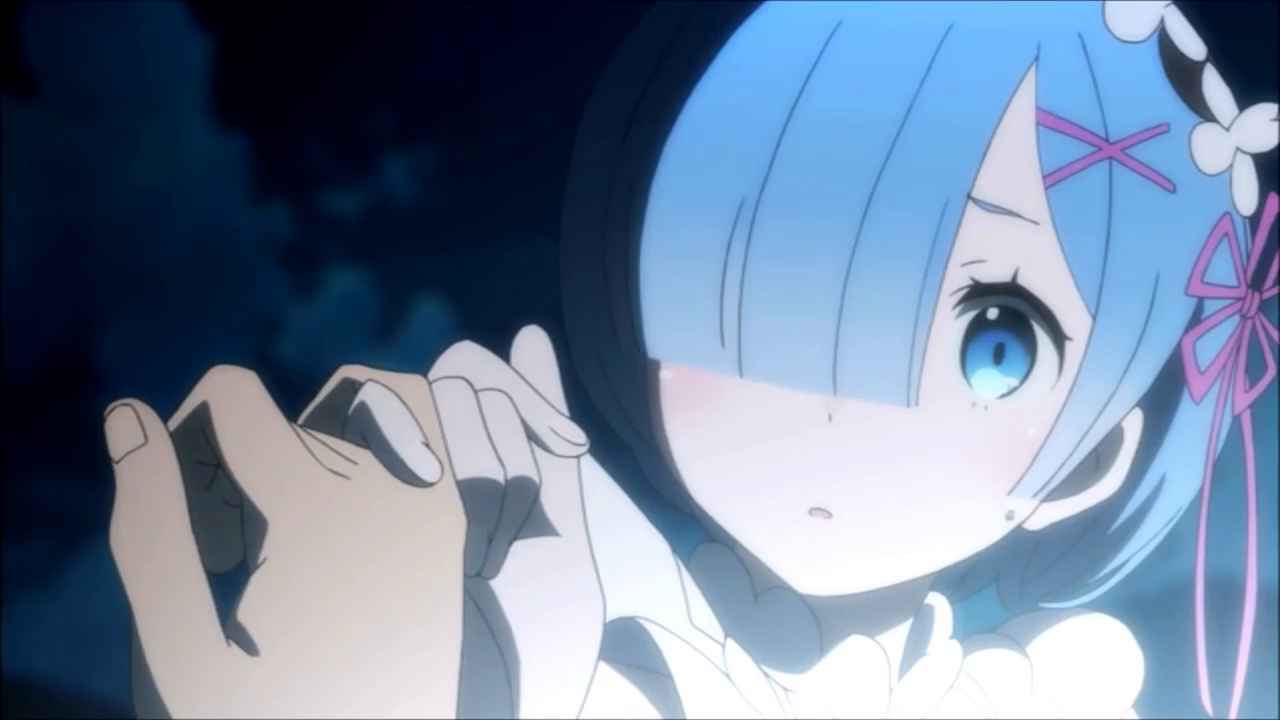REM: (543, 1, 1263, 606)
